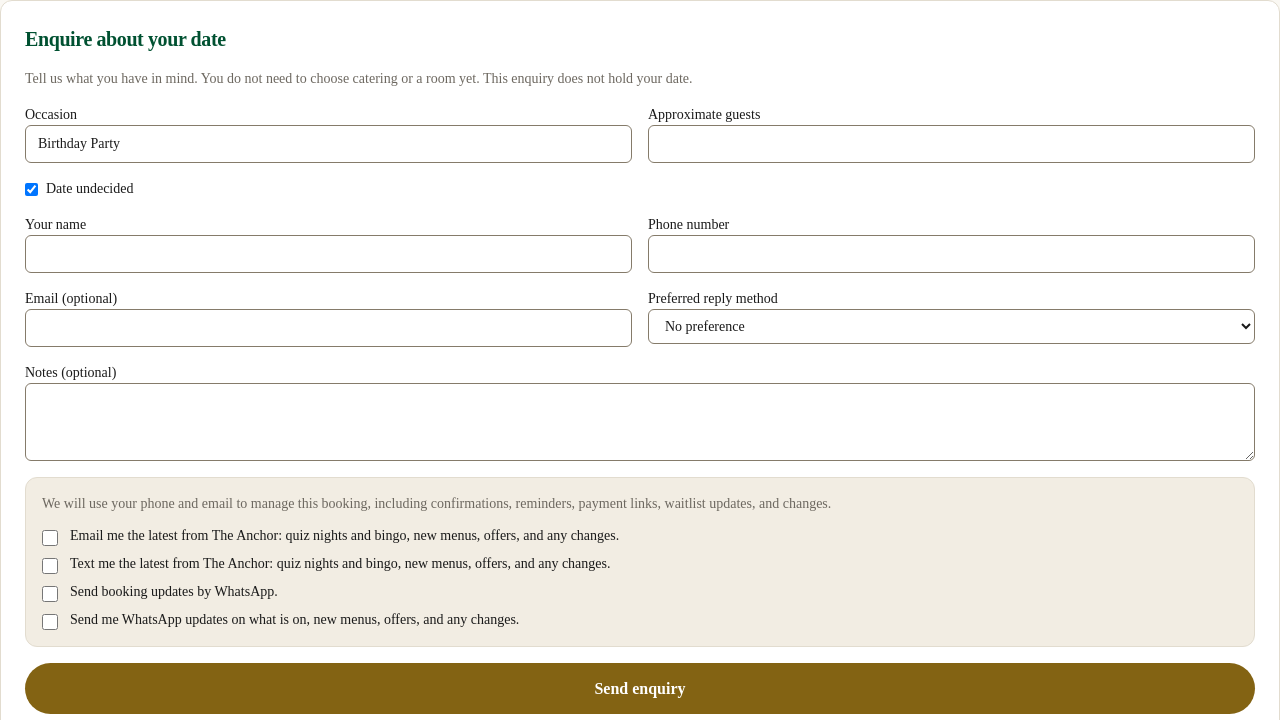
Test case: email fallback is distinguished from a saved enquiry
Step 1. Type "250" into the number field labelled "Approximate guests" → (952, 144), box [648,125,1255,163]
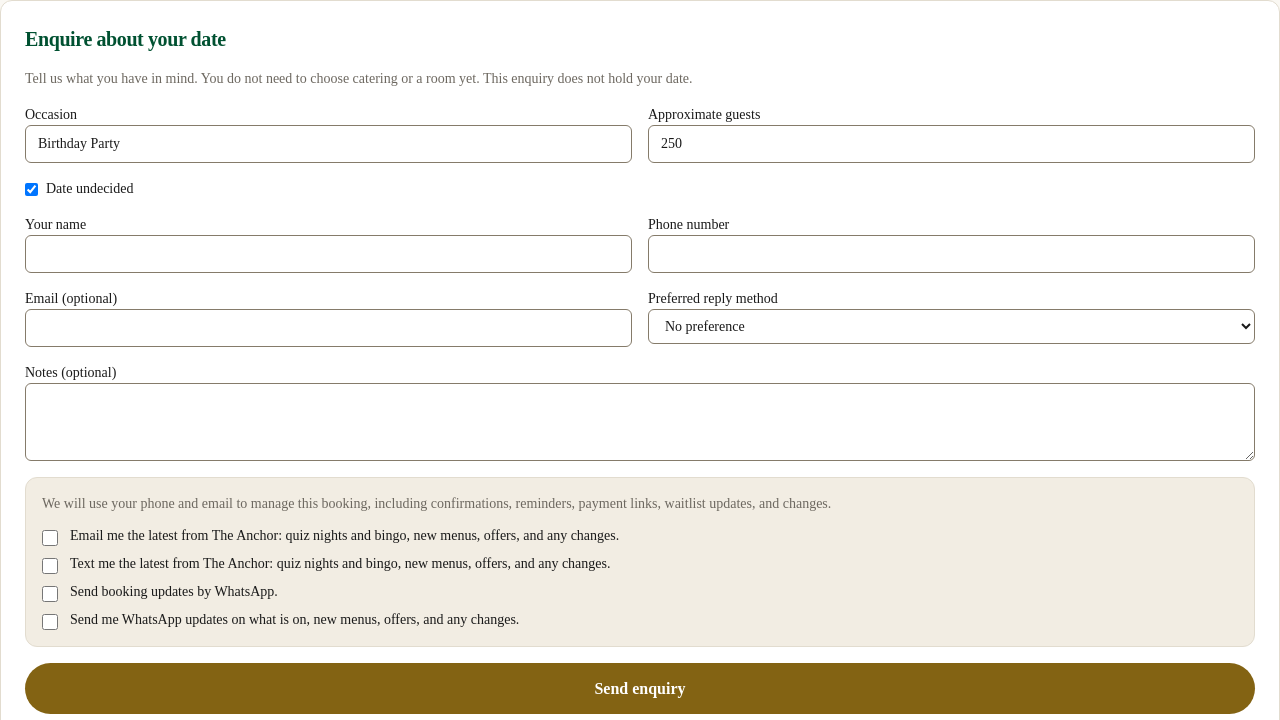
Step 2. Type "Test Guest" into the field labelled "Your name" → (328, 254), box [25,235,632,273]
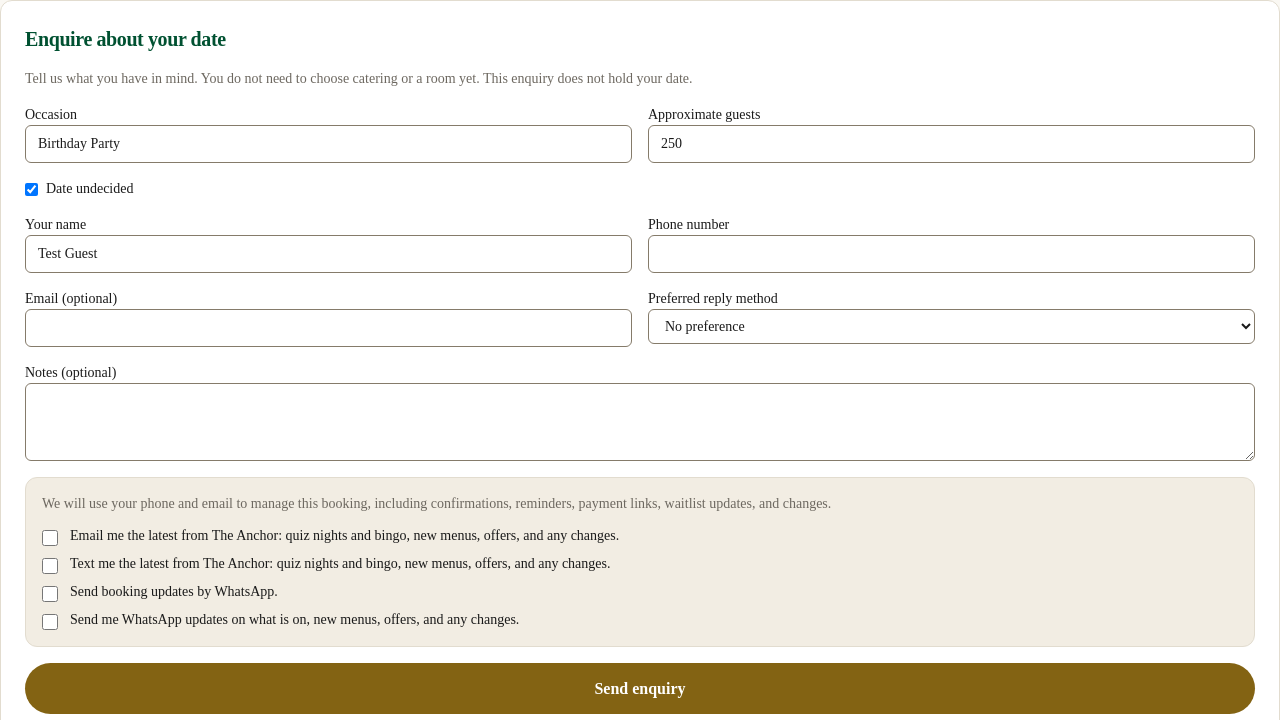
Step 3. Type "+447700900000" into the field labelled "Phone number" → (952, 254), box [648,235,1255,273]
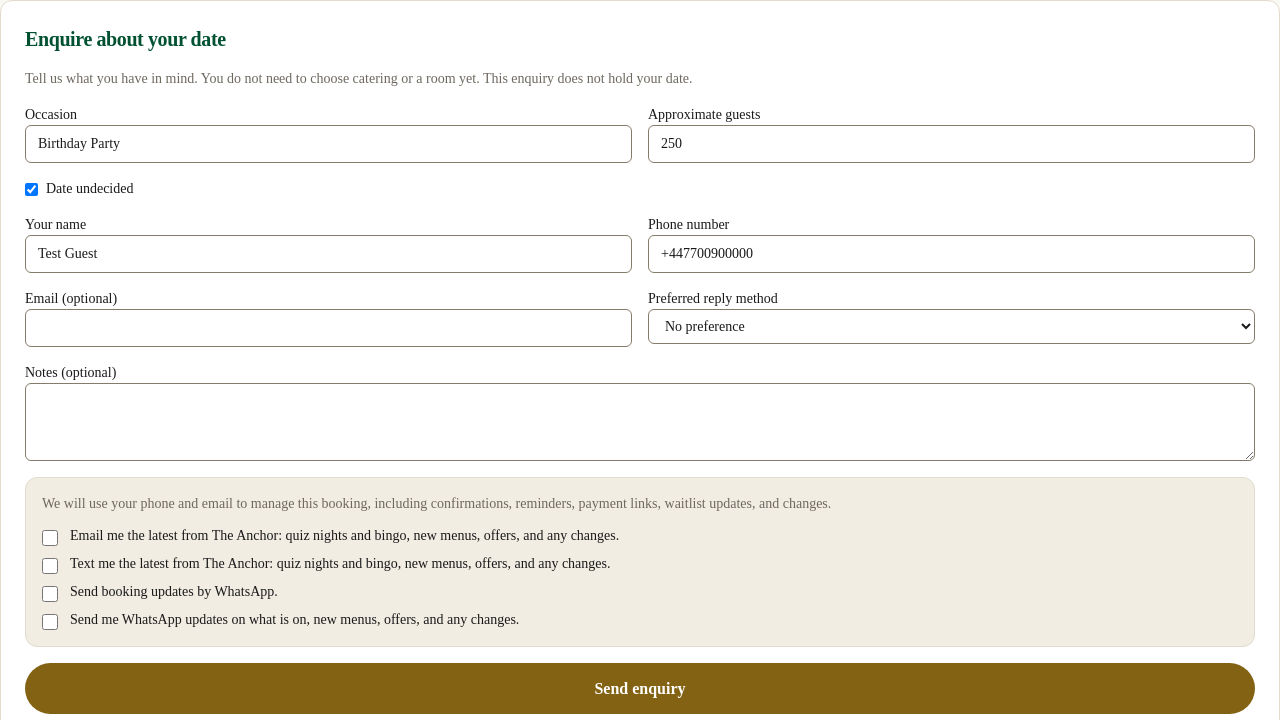
Step 4. Submit the form named "Short private hire enquiry"
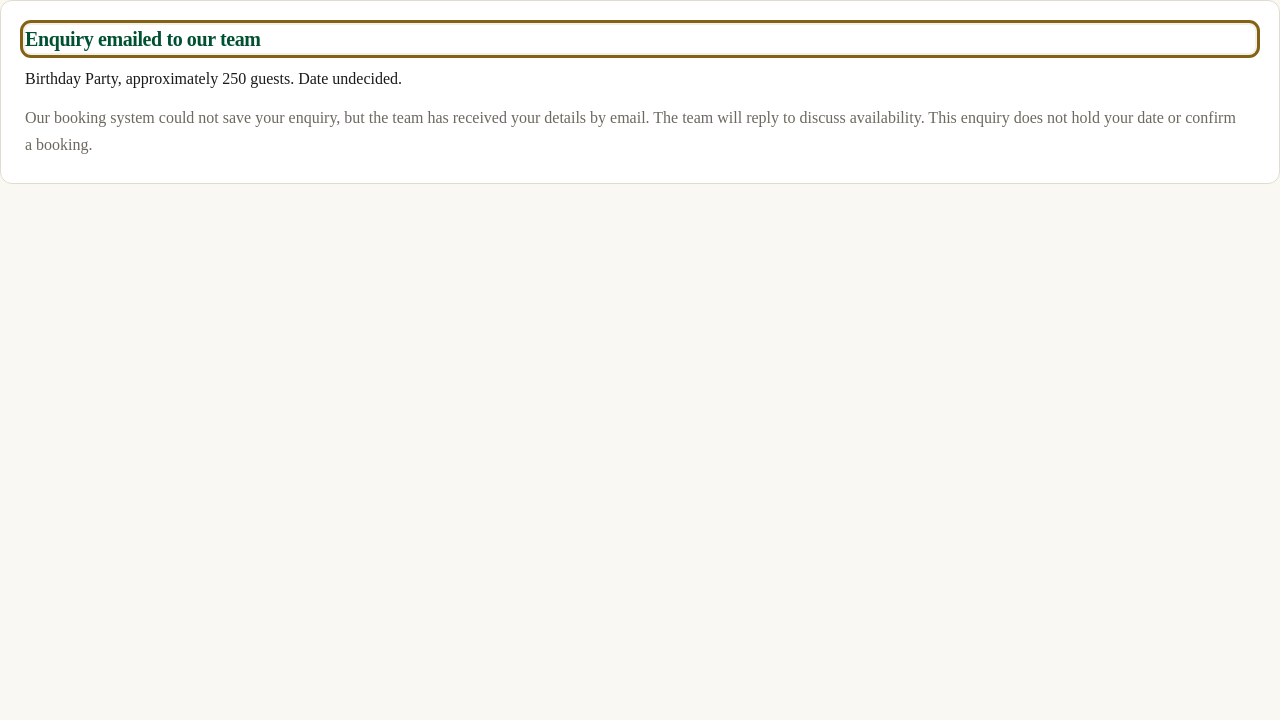
Expected: the heading "Enquiry emailed to our team" is shown, [25,25,1255,53]
Expected: the text "could not save your enquiry" is shown, [25,109,653,126]
